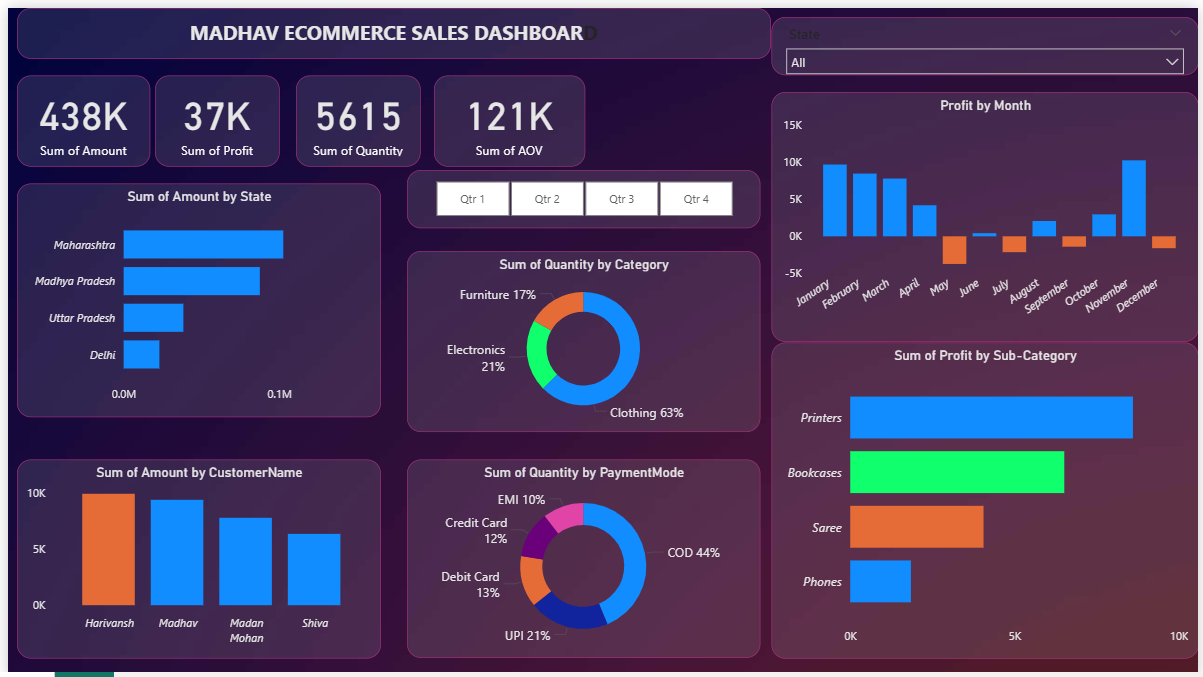

This screenshot's page, from the dashboard's own definition file:
{"tool":"powerbi","page":{"name":"Page 1","canvas":[1280,720],"ordinal":0},"visuals":[{"type":"textbox","box":[9.4,0,810.7,54.8],"z":0},{"type":"columnChart","title":"Profit by Month","fields":{"Category":["Orders.Order Date.Variation.Date Hierarchy.Month"],"Y":["Details.Profit"]},"box":[820.2,90.7,459.2,268.3],"z":1000},{"type":"clusteredBarChart","fields":{"Category":["Details.Sub-Category"],"Y":["Details.Profit"]},"box":[820.2,359.1,459.2,340.2],"z":2000},{"type":"donutChart","fields":{"Category":["Details.Category"],"Y":["Details.Quantity"]},"box":[429,260.8,379.8,194.6],"z":3000},{"type":"donutChart","fields":{"Y":["Details.Quantity"],"Category":["Details.PaymentMode"]},"box":[429,485.7,379.8,213.5],"z":4000},{"type":"card","fields":{"Values":["Details.Amount"]},"box":[9.4,71.8,143.6,98.3],"z":5000},{"type":"card","fields":{"Values":["Details.Profit"]},"box":[158.7,71.8,134.2,98.3],"z":6000},{"type":"card","fields":{"Values":["Details.Quantity"]},"box":[309.9,71.8,134.2,98.3],"z":7000},{"type":"card","fields":{"Values":["Details.AOV"]},"box":[457.3,71.8,162.5,98.3],"z":8000},{"type":"clusteredBarChart","fields":{"Category":["Orders.State"],"Y":["Details.Amount"]},"box":[9.4,189,391.2,251.3],"z":9000},{"type":"columnChart","fields":{"Category":["Orders.CustomerName"],"Y":["Details.Amount"]},"box":[9,486,391,214],"z":10000},{"type":"slicer","fields":{"Values":["Orders.Order Date.Variation.Date Hierarchy.Quarter"]},"box":[429,173.9,379.8,62.4],"z":10001},{"type":"slicer","fields":{"Values":["Orders.State"]},"box":[820.2,9.4,459.2,62.4],"z":10002}]}

Visuals, with their boxes in screenshot pixels (x1, y1, x2, y2), scaled from the page's 1280x720 canvas onto the 1203x677 screenshot:
textbox: locate(9, 0, 771, 52)
"Profit by Month" columnChart: locate(771, 85, 1202, 338)
clusteredBarChart - Details.Sub-Category x Details.Profit: locate(771, 338, 1202, 658)
donutChart - Details.Category x Details.Quantity: locate(403, 245, 760, 428)
donutChart - Details.Quantity x Details.PaymentMode: locate(403, 457, 760, 657)
card - Details.Amount: locate(9, 68, 144, 160)
card - Details.Profit: locate(149, 68, 275, 160)
card - Details.Quantity: locate(291, 68, 417, 160)
card - Details.AOV: locate(430, 68, 583, 160)
clusteredBarChart - Orders.State x Details.Amount: locate(9, 178, 377, 414)
columnChart - Orders.CustomerName x Details.Amount: locate(8, 457, 376, 658)
slicer - Orders.Order Date.Variation.Date Hierarchy.Quarter: locate(403, 164, 760, 222)
slicer - Orders.State: locate(771, 9, 1202, 68)
